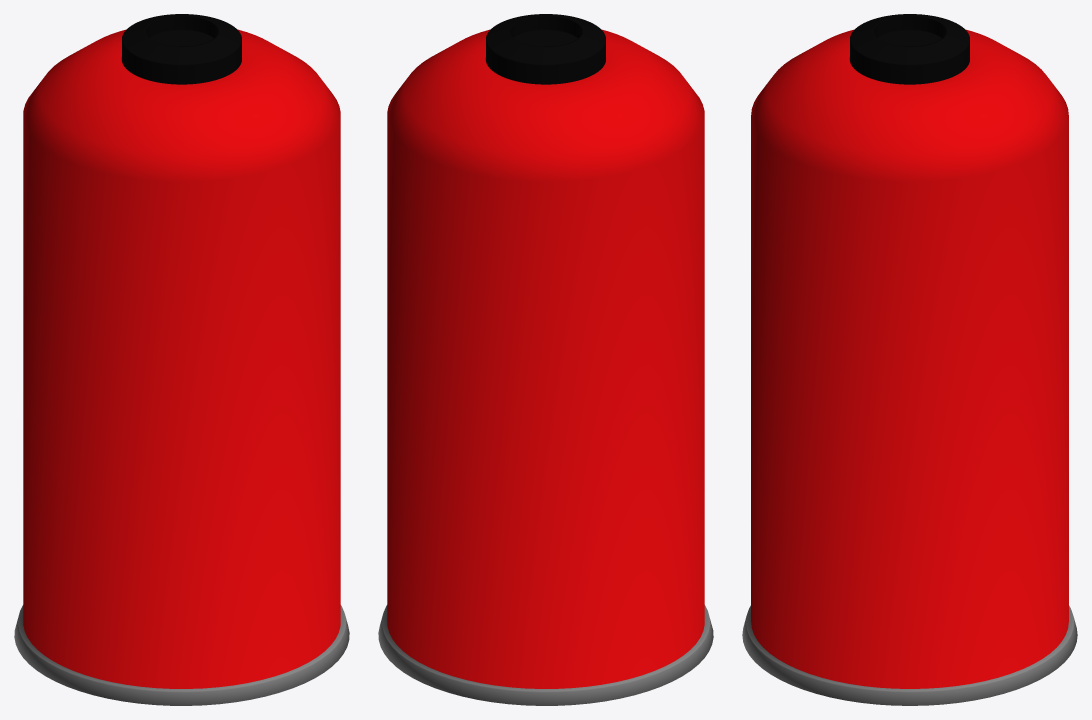
The model's file is GasCannister.fbx.
The picture shows the model from 3 angles, left to right: view 1: azimuth 30°, elevation 25°; view 2: azimuth 150°, elevation 25°; view 3: azimuth 270°, elevation 25°; orthographic projection.
Parts seen in each view (by area): view 1: Cylinder; view 2: Cylinder; view 3: Cylinder.
Boxes of the visible parts, box(x1,y1,x2,y2) form: Cylinder: box(14, 14, 349, 705); Cylinder: box(378, 14, 713, 705); Cylinder: box(742, 14, 1077, 705).
Size of the model in its own units: 26.38 by 52.41 by 26.38.
